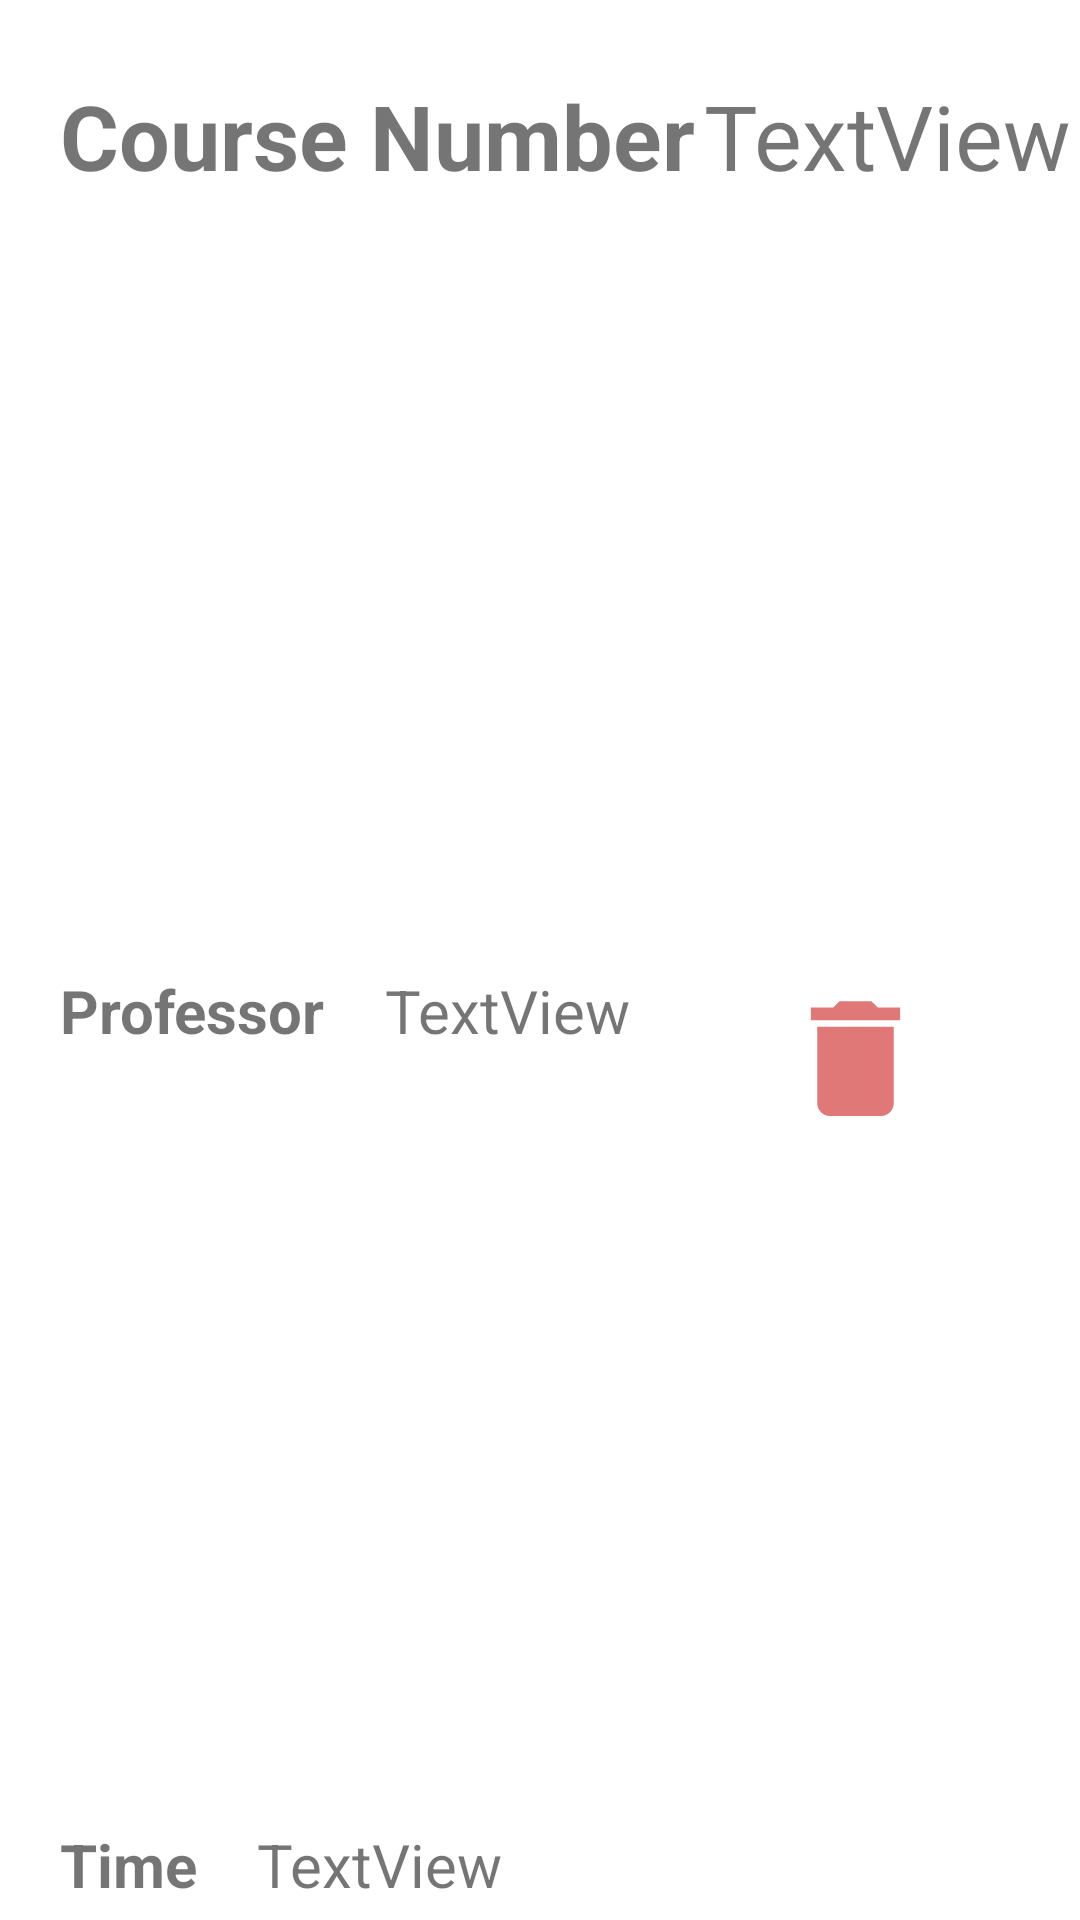

Screen size 1080x1920. Icon name, then its box in pixels as {"x1": x1, "y1": y1, "x2": x2, "y2": y2}:
inline delete: {"x1": 811, "y1": 1001, "x2": 900, "y2": 1116}
